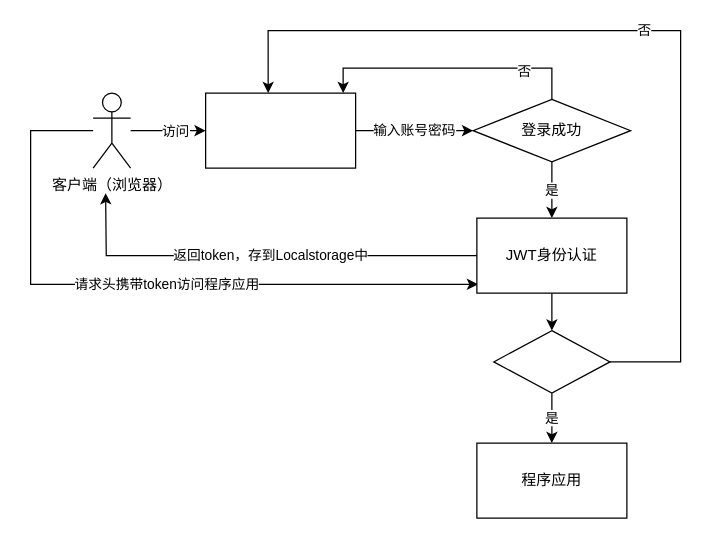
Image size: 713x540. Some labels were removed from this diagram. Each missing label, with the centre of its shape:
"统一门户" goes at (280,130).
"认证通过" goes at (551,361).
